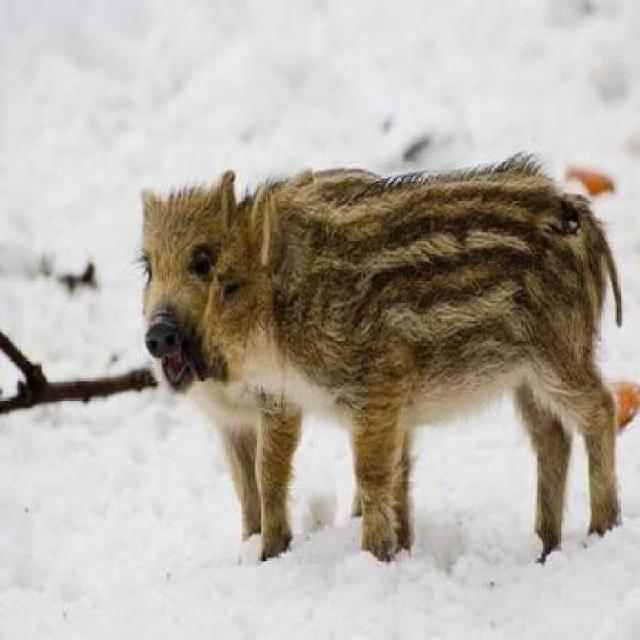pig: (83, 112, 639, 614)
